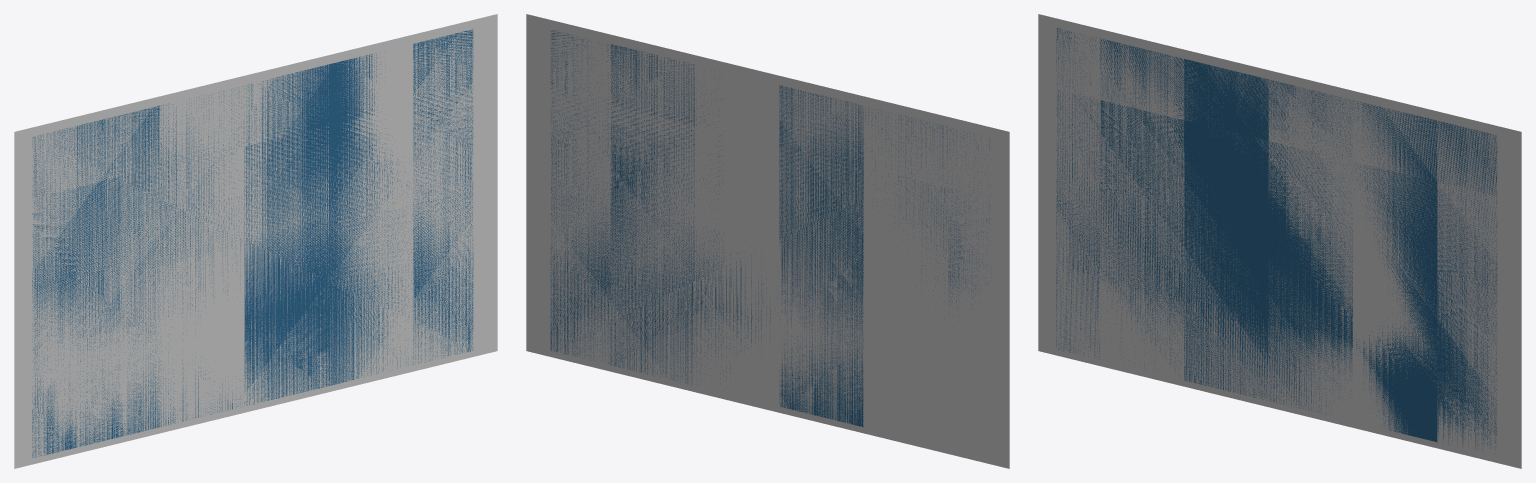
The model's file is TankUpgradeScene.glb.
3 views of the same model, side by side, from view 1: azimuth 30°, elevation 25°; view 2: azimuth 150°, elevation 25°; view 3: azimuth 330°, elevation 25° (orthographic).
Parts seen in each view (by area): view 1: Sprite_Background, Sprite_BackgroundGradient; view 2: Sprite_Background, Sprite_BackgroundGradient; view 3: Sprite_Background, Sprite_BackgroundGradient.
Boxes of the visible parts, x1,y1,x2,y2 form: Sprite_Background: (14,14,497,468); Sprite_BackgroundGradient: (32,29,473,457); Sprite_Background: (526,14,1009,468); Sprite_BackgroundGradient: (550,30,989,426); Sprite_Background: (1038,14,1521,468); Sprite_BackgroundGradient: (1056,28,1497,453).
Size of the model in its own units: 1260 by 840 by 0.
